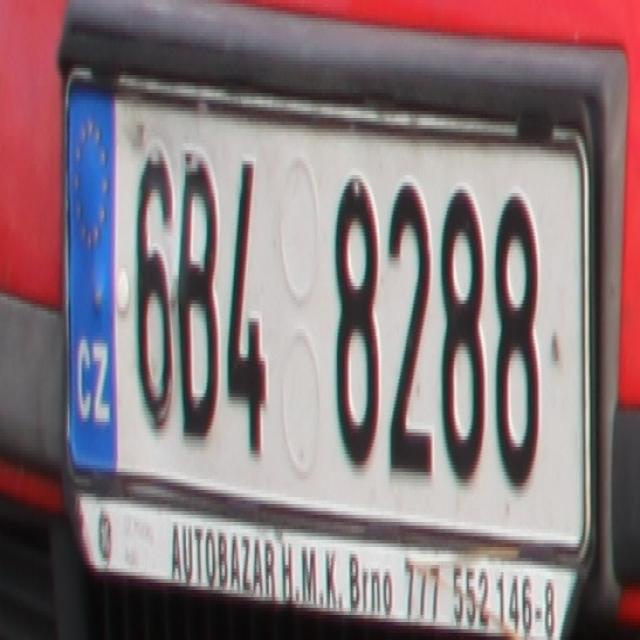2: (386, 179, 433, 472)
4: (227, 150, 269, 451)
6: (131, 140, 176, 426)
8: (334, 161, 382, 475), (494, 186, 542, 486), (441, 178, 488, 482)
B: (177, 136, 222, 465)
